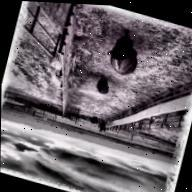boar: (103, 31, 144, 80), (95, 76, 111, 96), (89, 115, 100, 125)
